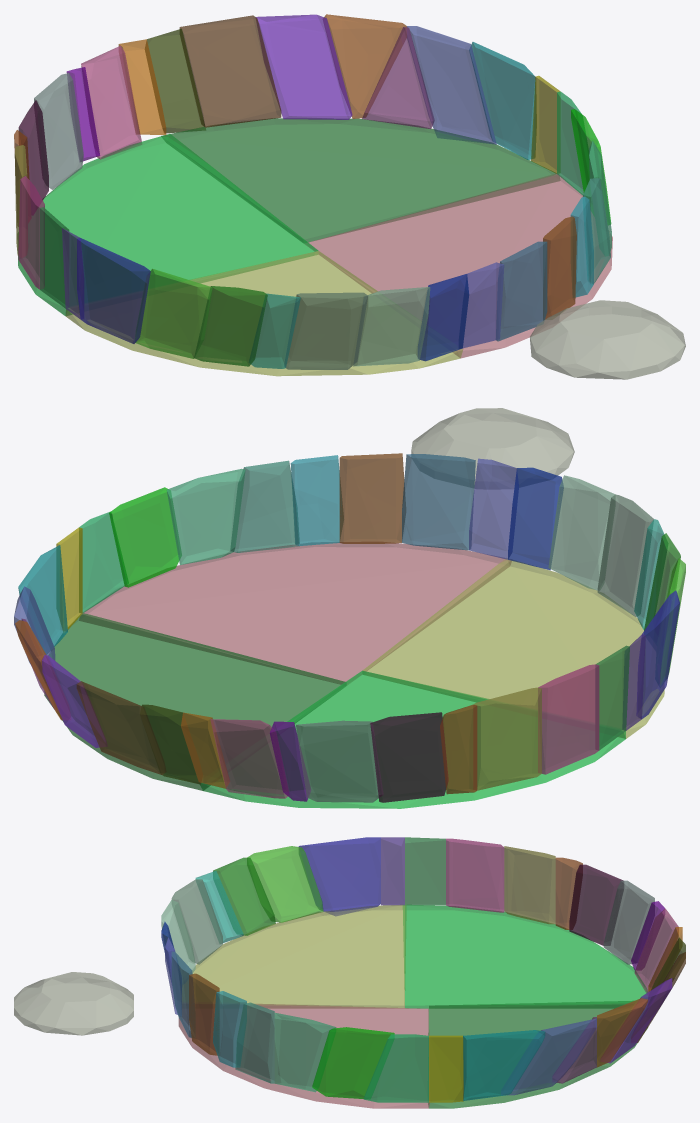
3 views of the same model, one above another, from view 1: azimuth 30°, elevation 25°; view 2: azimuth 150°, elevation 25°; view 3: azimuth 270°, elevation 25° (orthographic). The views are drawn at different scales.
Parts seen in each view (by area): view 1: Shape_IndexedFaceSet.001, Shape_IndexedFaceSet.003, Shape_IndexedFaceSet.004, Shape_IndexedFaceSet.002, Shape_IndexedFaceSet, Shape_IndexedFaceSet.021, Shape_IndexedFaceSet.022, Shape_IndexedFaceSet.025, Shape_IndexedFaceSet.013, Shape_IndexedFaceSet.017, Shape_IndexedFaceSet.023, Shape_IndexedFaceSet.026 (+26 smaller); view 2: Shape_IndexedFaceSet.004, Shape_IndexedFaceSet.001, Shape_IndexedFaceSet.002, Shape_IndexedFaceSet.003, Shape_IndexedFaceSet, Shape_IndexedFaceSet.029, Shape_IndexedFaceSet.010, Shape_IndexedFaceSet.006, Shape_IndexedFaceSet.009, Shape_IndexedFaceSet.030, Shape_IndexedFaceSet.018, Shape_IndexedFaceSet.007 (+26 smaller); view 3: Shape_IndexedFaceSet.001, Shape_IndexedFaceSet.004, Shape_IndexedFaceSet.002, Shape_IndexedFaceSet.003, Shape_IndexedFaceSet, Shape_IndexedFaceSet.013, Shape_IndexedFaceSet.034, Shape_IndexedFaceSet.026, Shape_IndexedFaceSet.014, Shape_IndexedFaceSet.007, Shape_IndexedFaceSet.032, Shape_IndexedFaceSet.025 (+25 smaller).
Boxes of the visible parts, x1=… form: Shape_IndexedFaceSet.001: x1=18, y1=134, x2=318, y2=315; Shape_IndexedFaceSet.003: x1=161, y1=118, x2=560, y2=242; Shape_IndexedFaceSet.004: x1=305, y1=174, x2=612, y2=358; Shape_IndexedFaceSet.002: x1=65, y1=251, x2=463, y2=376; Shape_IndexedFaceSet: x1=529, y1=300, x2=685, y2=379; Shape_IndexedFaceSet.021: x1=179, y1=15, x2=281, y2=127; Shape_IndexedFaceSet.022: x1=256, y1=14, x2=352, y2=119; Shape_IndexedFaceSet.025: x1=407, y1=26, x2=496, y2=144; Shape_IndexedFaceSet.013: x1=77, y1=238, x2=150, y2=343; Shape_IndexedFaceSet.017: x1=284, y1=292, x2=367, y2=369; Shape_IndexedFaceSet.023: x1=323, y1=14, x2=406, y2=118; Shape_IndexedFaceSet.026: x1=469, y1=42, x2=536, y2=159; Shape_IndexedFaceSet.004: x1=79, y1=542, x2=511, y2=684; Shape_IndexedFaceSet.001: x1=200, y1=670, x2=625, y2=808; Shape_IndexedFaceSet.002: x1=363, y1=559, x2=664, y2=738; Shape_IndexedFaceSet.003: x1=44, y1=613, x2=346, y2=790; Shape_IndexedFaceSet: x1=411, y1=408, x2=574, y2=488; Shape_IndexedFaceSet.029: x1=402, y1=454, x2=475, y2=550; Shape_IndexedFaceSet.010: x1=296, y1=720, x2=383, y2=802; Shape_IndexedFaceSet.006: x1=473, y1=687, x2=541, y2=790; Shape_IndexedFaceSet.009: x1=370, y1=712, x2=447, y2=802; Shape_IndexedFaceSet.030: x1=339, y1=453, x2=405, y2=543; Shape_IndexedFaceSet.018: x1=548, y1=475, x2=614, y2=590; Shape_IndexedFaceSet.007: x1=538, y1=664, x2=599, y2=774; Shape_IndexedFaceSet.001: x1=403, y1=905, x2=647, y2=1008; Shape_IndexedFaceSet.004: x1=178, y1=1004, x2=429, y2=1108; Shape_IndexedFaceSet.002: x1=182, y1=905, x2=406, y2=1008; Shape_IndexedFaceSet.003: x1=428, y1=1001, x2=647, y2=1108; Shape_IndexedFaceSet: x1=14, y1=972, x2=133, y2=1035; Shape_IndexedFaceSet.013: x1=298, y1=837, x2=380, y2=916; Shape_IndexedFaceSet.034: x1=312, y1=1027, x2=394, y2=1098; Shape_IndexedFaceSet.026: x1=463, y1=1030, x2=545, y2=1100; Shape_IndexedFaceSet.014: x1=247, y1=846, x2=323, y2=922; Shape_IndexedFaceSet.007: x1=446, y1=838, x2=504, y2=912; Shape_IndexedFaceSet.032: x1=274, y1=1012, x2=336, y2=1092; Shape_IndexedFaceSet.025: x1=501, y1=1018, x2=596, y2=1095.
Bounding box in the file's own units: 0.5762 × 0.096 × 0.8183.
